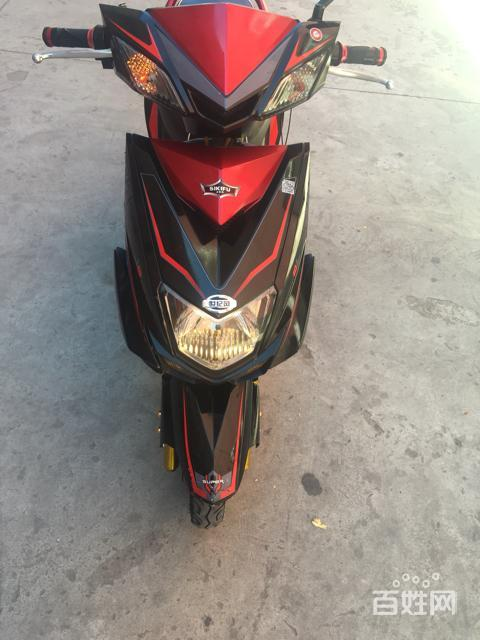电动车: (31, 1, 397, 537)
